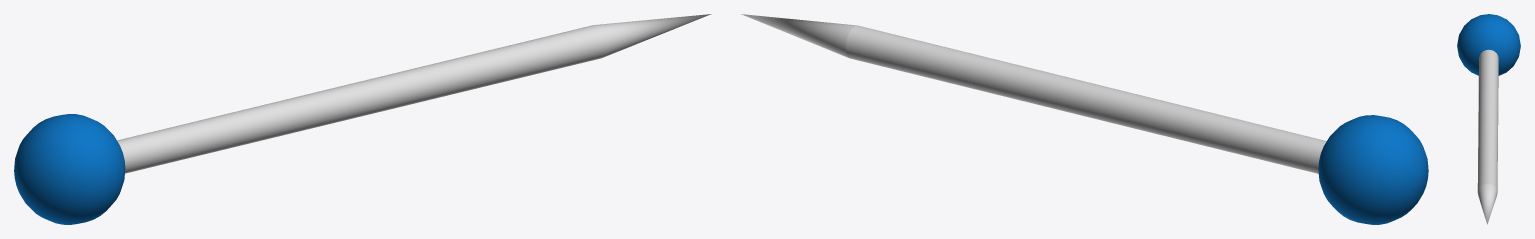
Rendered from needle texture.fbx.
The picture shows the model from 3 angles, left to right: view 1: azimuth 30°, elevation 25°; view 2: azimuth 150°, elevation 25°; view 3: azimuth 270°, elevation 25°; orthographic projection. The views are drawn at different scales.
Parts seen in each view (by area): view 1: Needle; view 2: Needle; view 3: Needle.
Part boxes in pixels (x1,y1,x2,y2): Needle: [14, 14, 711, 224]; Needle: [741, 14, 1428, 224]; Needle: [1457, 14, 1520, 224].
Size of the model in its own units: 2.99 by 0.4192 by 0.4192.
2 materials, 1 textured.
